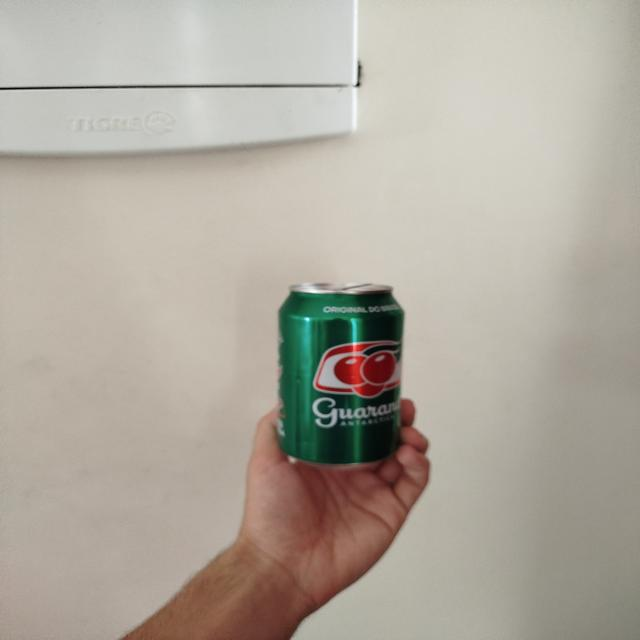Guarana: (276, 283, 406, 466)
